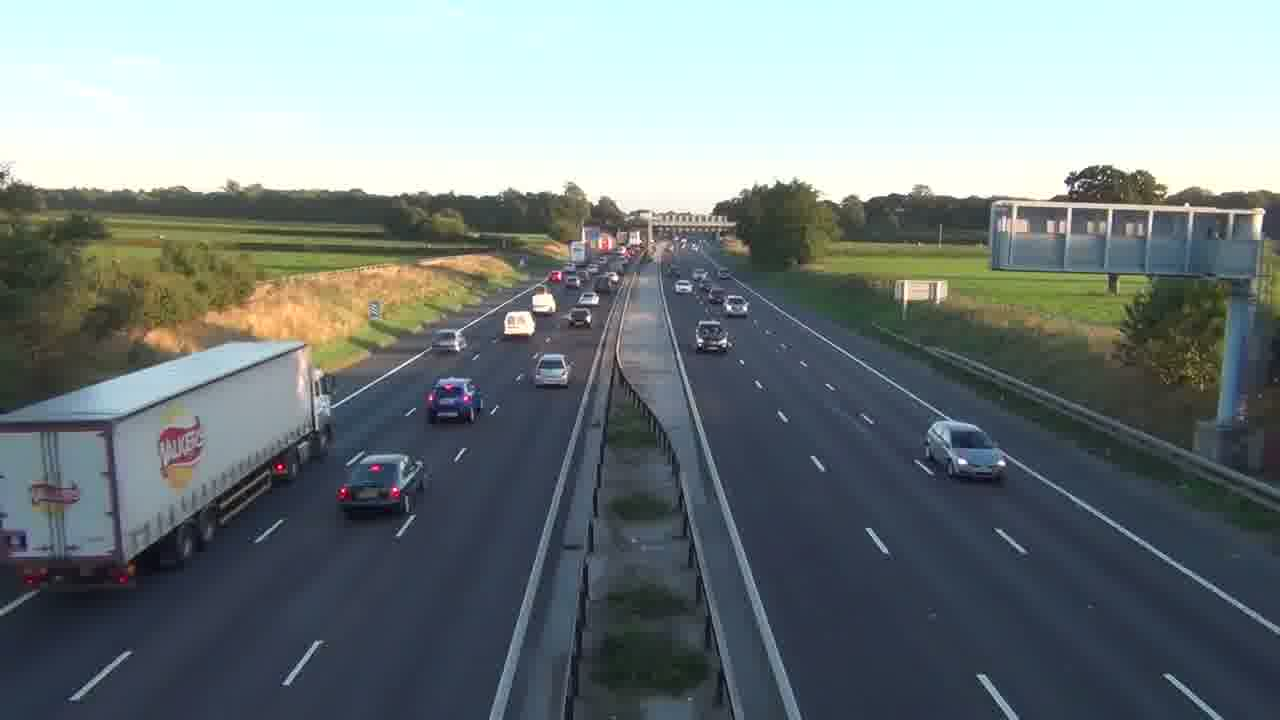car: (336, 450, 425, 519), (924, 419, 1009, 482), (424, 377, 482, 424), (531, 351, 573, 388), (695, 319, 730, 352), (723, 295, 749, 317), (566, 307, 593, 328)
truck: (0, 339, 336, 590)
